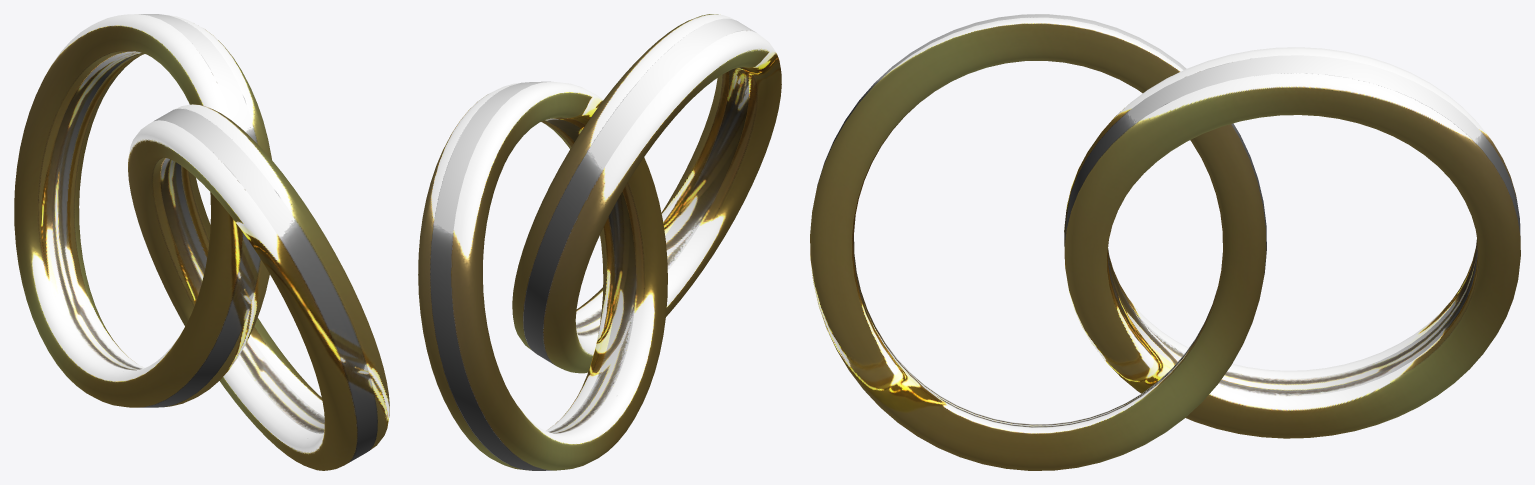
The model's file is ringsNewBake.gltf.
3 renders of one model, left to right at view 1: azimuth 30°, elevation 25°; view 2: azimuth 150°, elevation 25°; view 3: azimuth 270°, elevation 25°, orthographic. The views are drawn at different scales.
Parts seen in each view (by area): view 1: ring; view 2: ring; view 3: ring.
Boxes of the visible parts, box(x1,y1,x2,y2) form: ring: box(14, 14, 389, 470); ring: box(418, 14, 781, 470); ring: box(810, 14, 1520, 470).
Bounding box in the file's own units: 0.4687 × 1.02 × 1.6.
Materials: 2 (2 with a texture image).
